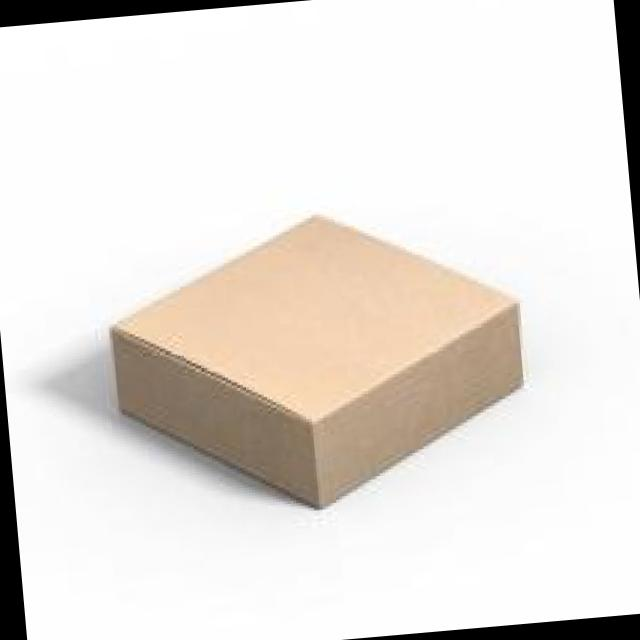box: (108, 214, 529, 511)
